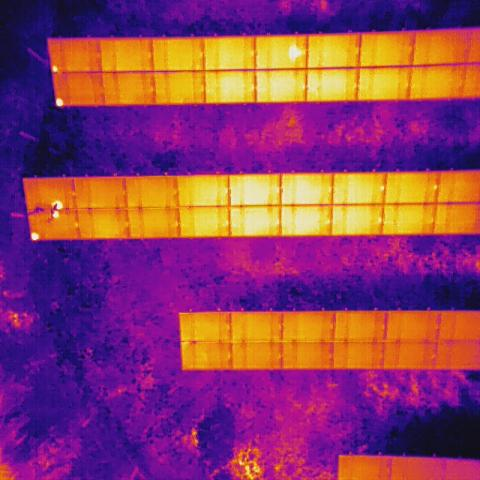fault: (286, 44, 304, 62), (54, 95, 64, 107), (50, 199, 63, 208), (30, 230, 39, 239), (52, 64, 60, 74), (52, 210, 60, 220), (378, 184, 386, 193), (376, 214, 384, 223)
